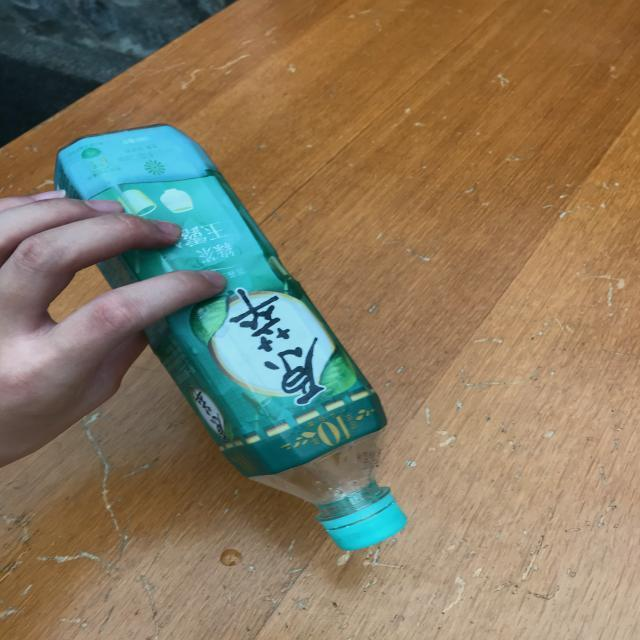bottle: (54, 124, 408, 550)
